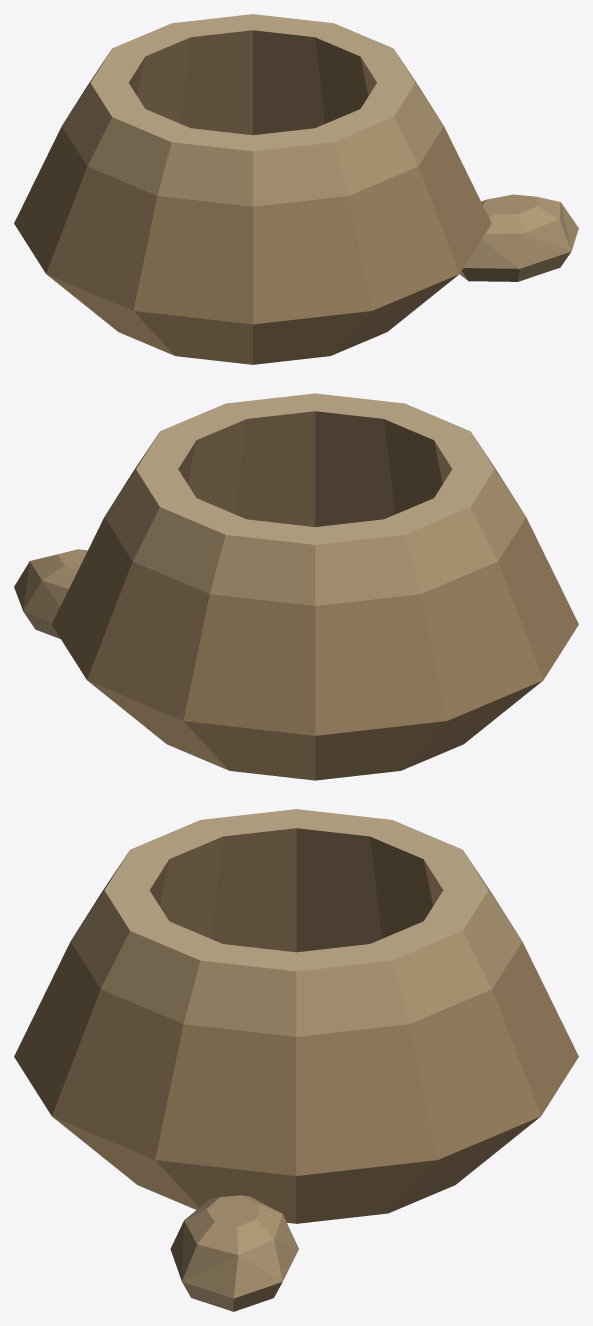
The model's file is urn-broken.glb.
3 renders of one model, top to bottom at view 1: azimuth 30°, elevation 25°; view 2: azimuth 150°, elevation 25°; view 3: azimuth 270°, elevation 25°, orthographic. The views are drawn at different scales.
Visible parts, largest first — view 1: urn-broken__body; view 2: urn-broken__body; view 3: urn-broken__body.
Boxes of the visible parts, x1,y1,x2,y2 form: urn-broken__body: (14, 14, 578, 364); urn-broken__body: (14, 393, 578, 780); urn-broken__body: (14, 809, 578, 1311).
Bounding box in the file's own units: 1.1 × 0.45 × 0.9.
